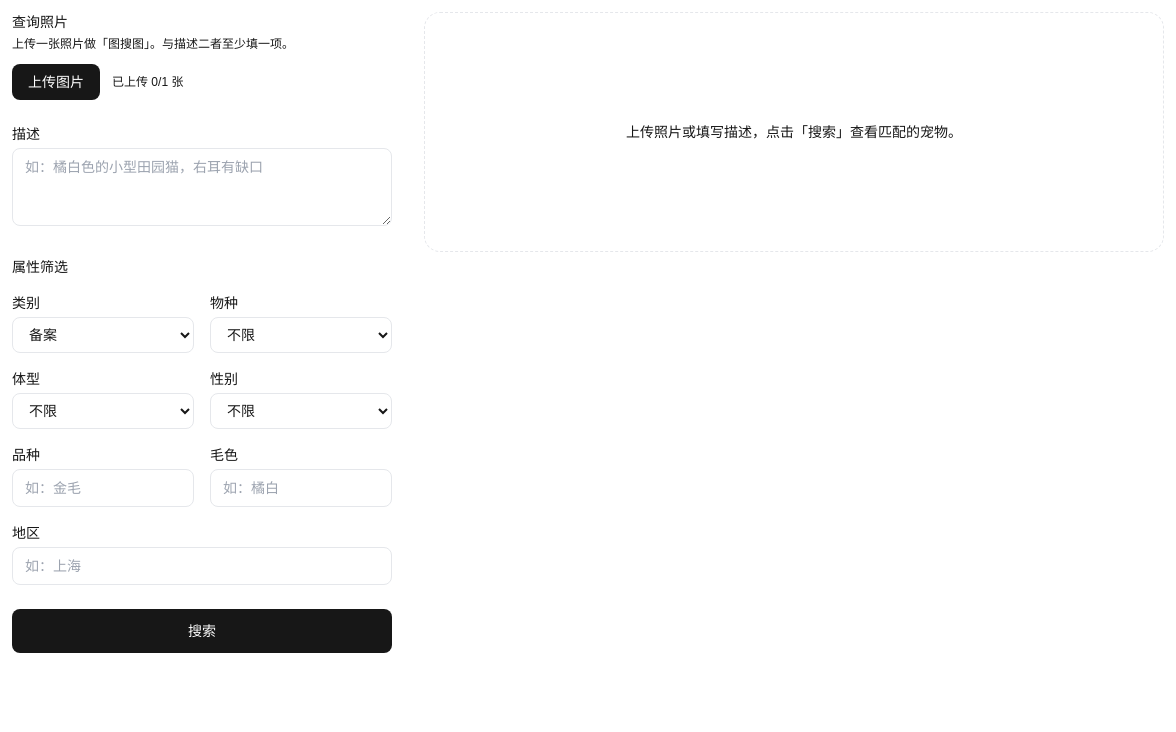
it: SearchForm › displays fusion search mode and weights when both photo and text are provided
The image size is (1176, 732).
Type "orange cat" into the text box labelled "描述" at point(202, 187), box left=12, top=148, right=392, bottom=226
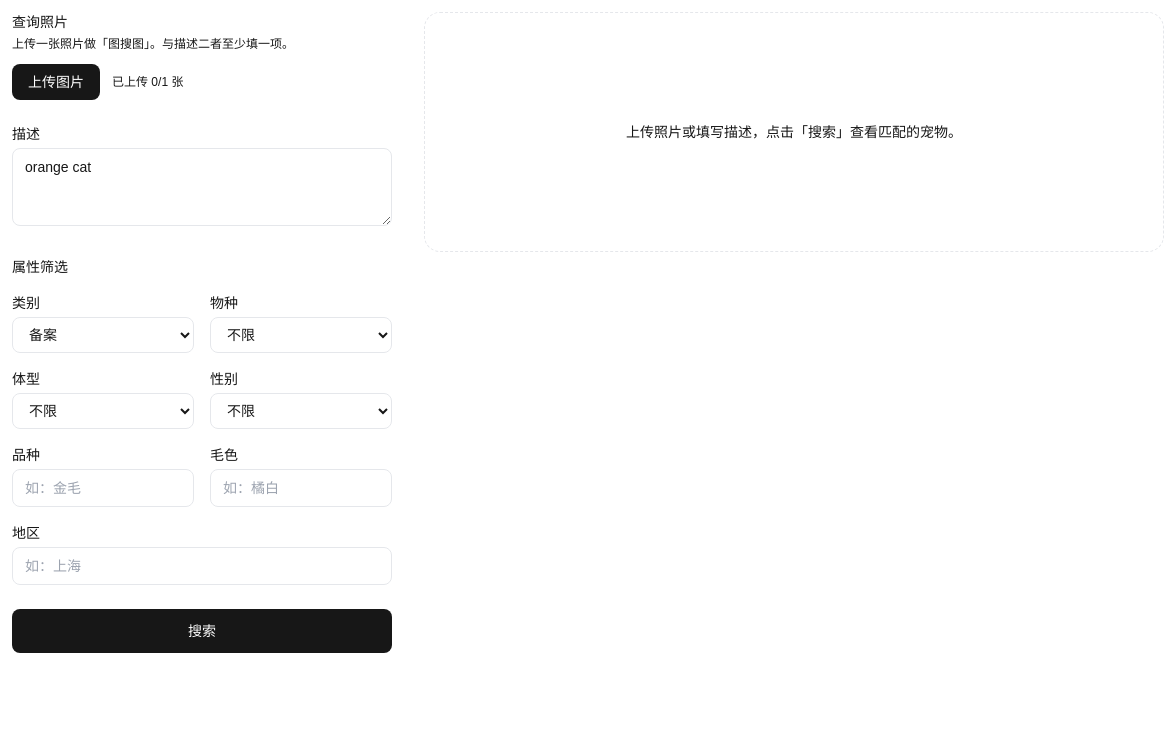
Click the button "搜索" at point(202, 631), box left=12, top=609, right=392, bottom=653
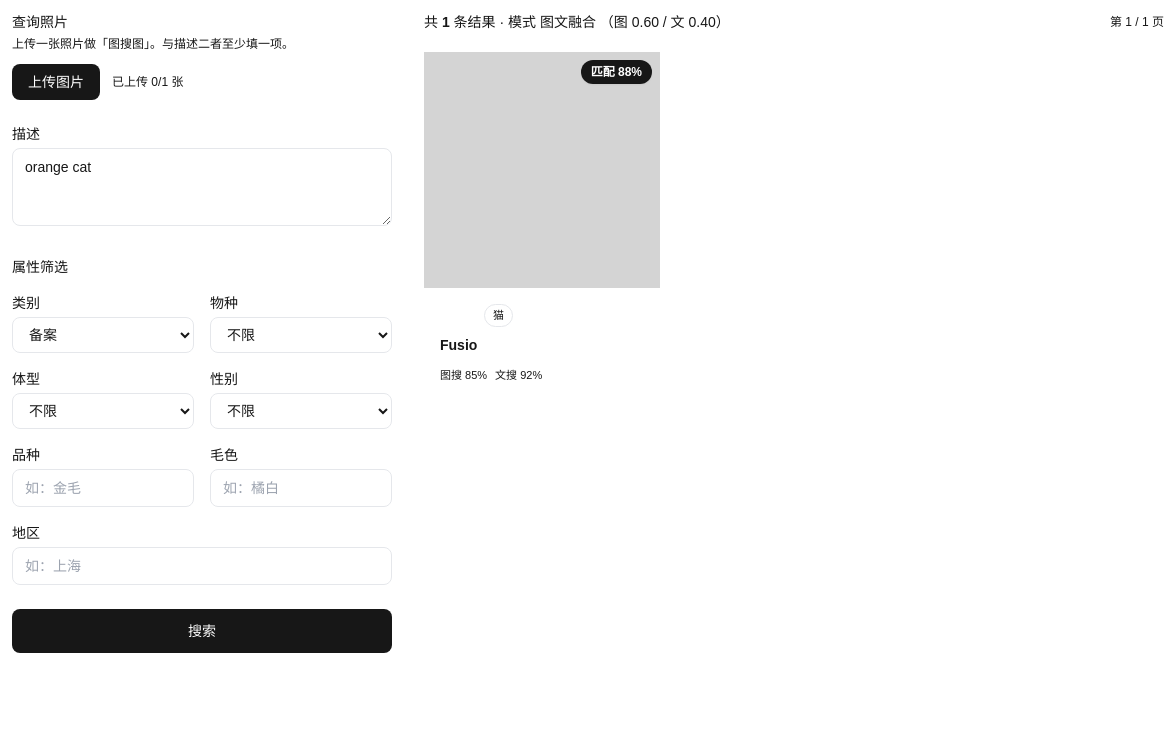
Expected: the text "图文融合" is shown, left=540, top=14, right=596, bottom=30
Expected: the text "共 1 条结果 · 模式 图文融合 （图 0.60 / 文 0.40）" is shown, left=424, top=12, right=730, bottom=32
